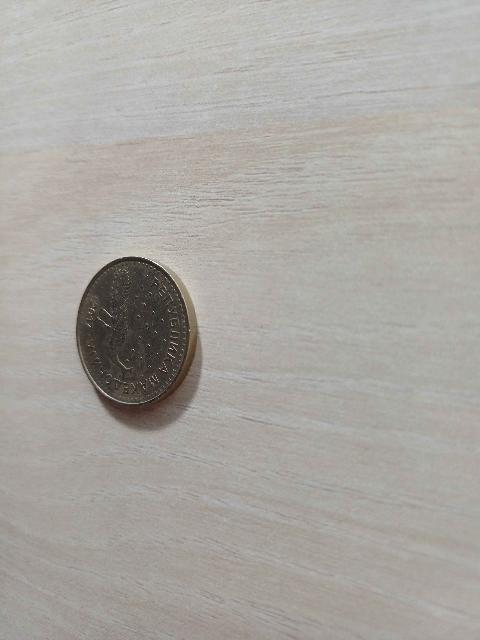10_coin: (77, 257, 196, 406)
